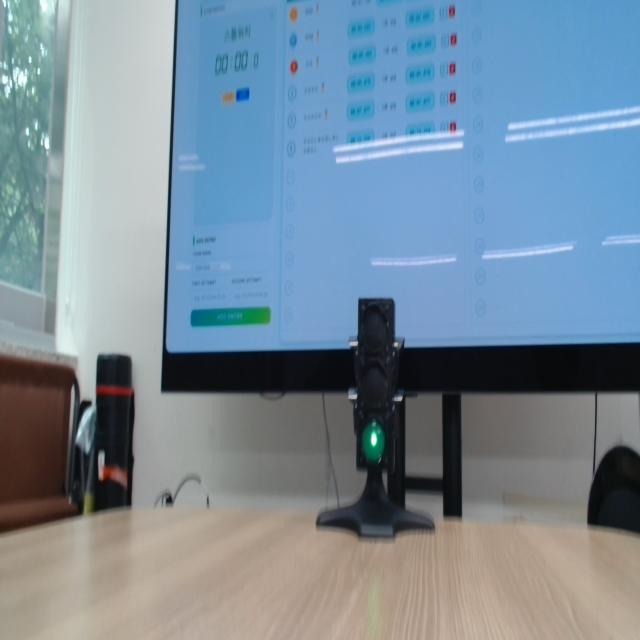green_light: (362, 421, 385, 464), (371, 433, 377, 446)
